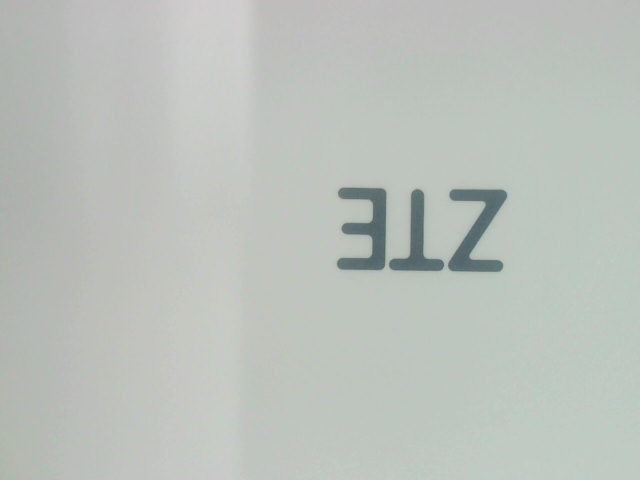AN_ZTE: (330, 181, 512, 277)
